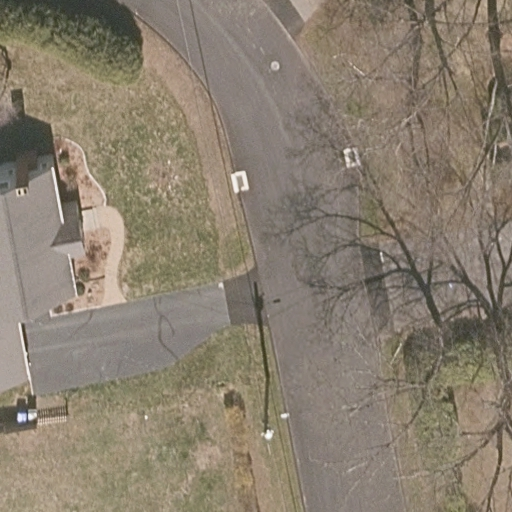DT: (260, 371, 289, 451)
